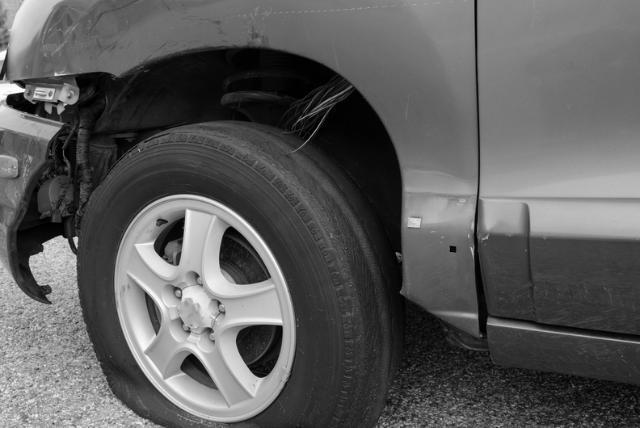Bumper: (0, 72, 76, 311)
Fender: (398, 281, 488, 373)
